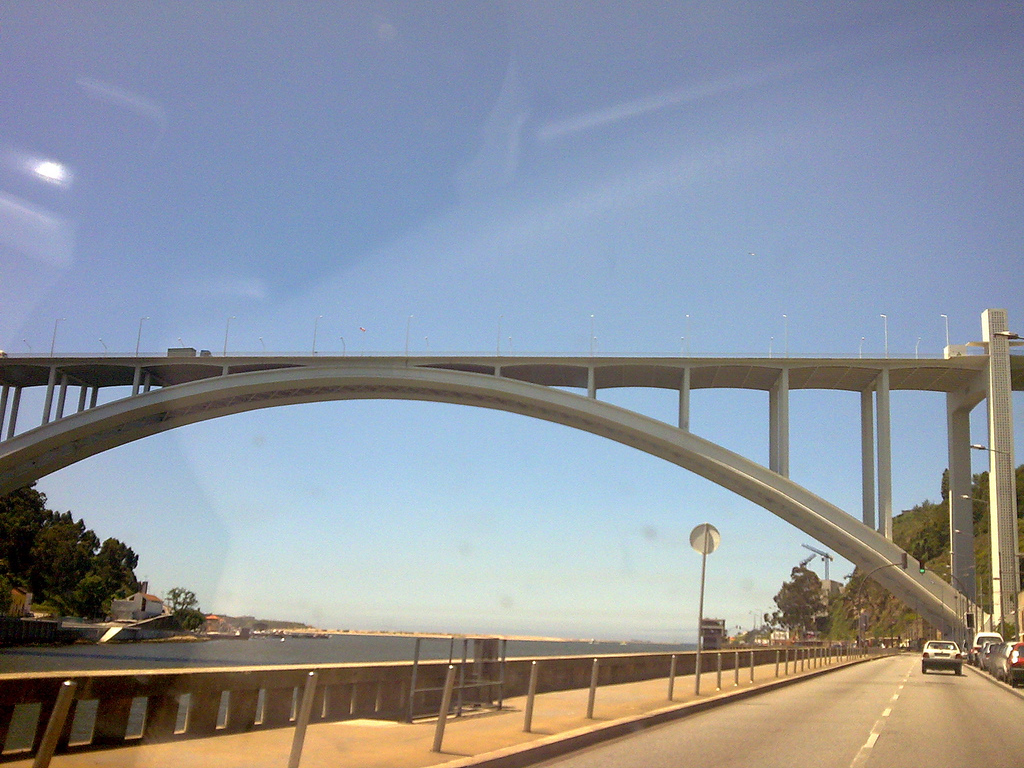arrabida: (0, 304, 1023, 642)
